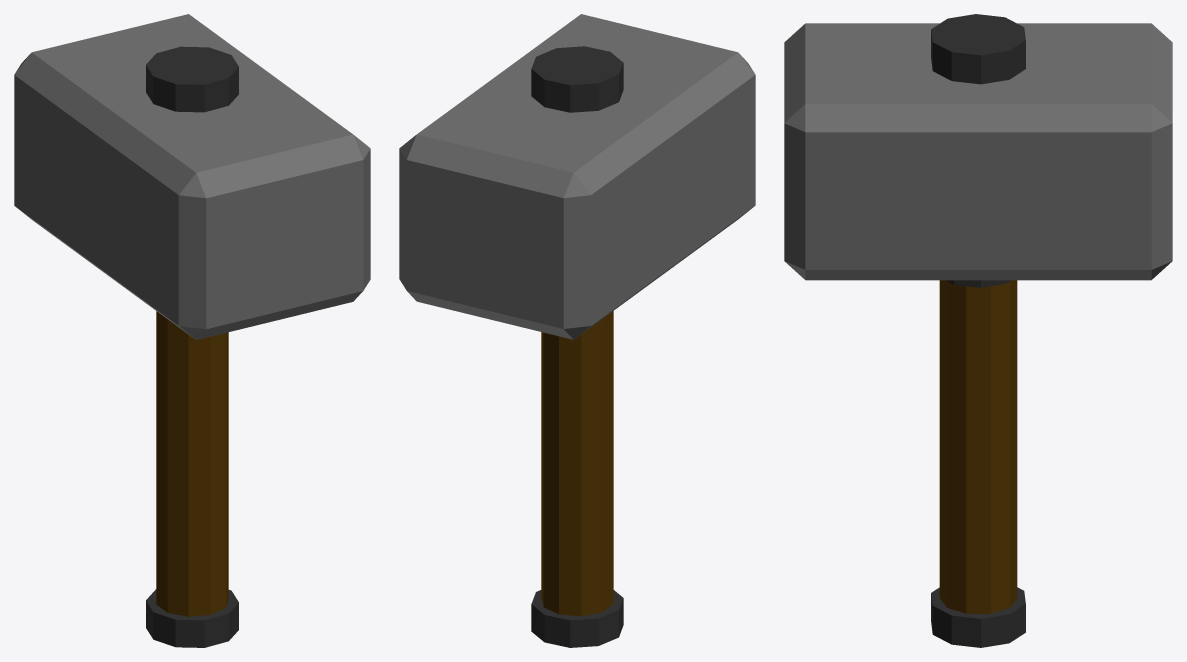
Rendered from hammer.fbx.
3 views of the same model, side by side, from view 1: azimuth 30°, elevation 25°; view 2: azimuth 150°, elevation 25°; view 3: azimuth 270°, elevation 25° (orthographic). The views are drawn at different scales.
Parts seen in each view (by area): view 1: Куб, Цилиндр, Цилиндр.003, Цилиндр.002; view 2: Куб, Цилиндр, Цилиндр.003, Цилиндр.002; view 3: Куб, Цилиндр, Цилиндр.003, Цилиндр.002.
Part boxes in pixels (box(x1,y1,x2,y2)): Куб: box(14, 14, 370, 339); Цилиндр: box(156, 311, 228, 616); Цилиндр.003: box(146, 46, 238, 112); Цилиндр.002: box(146, 589, 238, 647); Куб: box(399, 14, 755, 339); Цилиндр: box(541, 311, 613, 616); Цилиндр.003: box(531, 46, 623, 112); Цилиндр.002: box(531, 590, 623, 647); Куб: box(784, 23, 1172, 280); Цилиндр: box(939, 280, 1017, 613); Цилиндр.003: box(931, 14, 1025, 84); Цилиндр.002: box(931, 587, 1025, 647).
Bounding box in the file's own units: 600 × 1683 × 1000.
